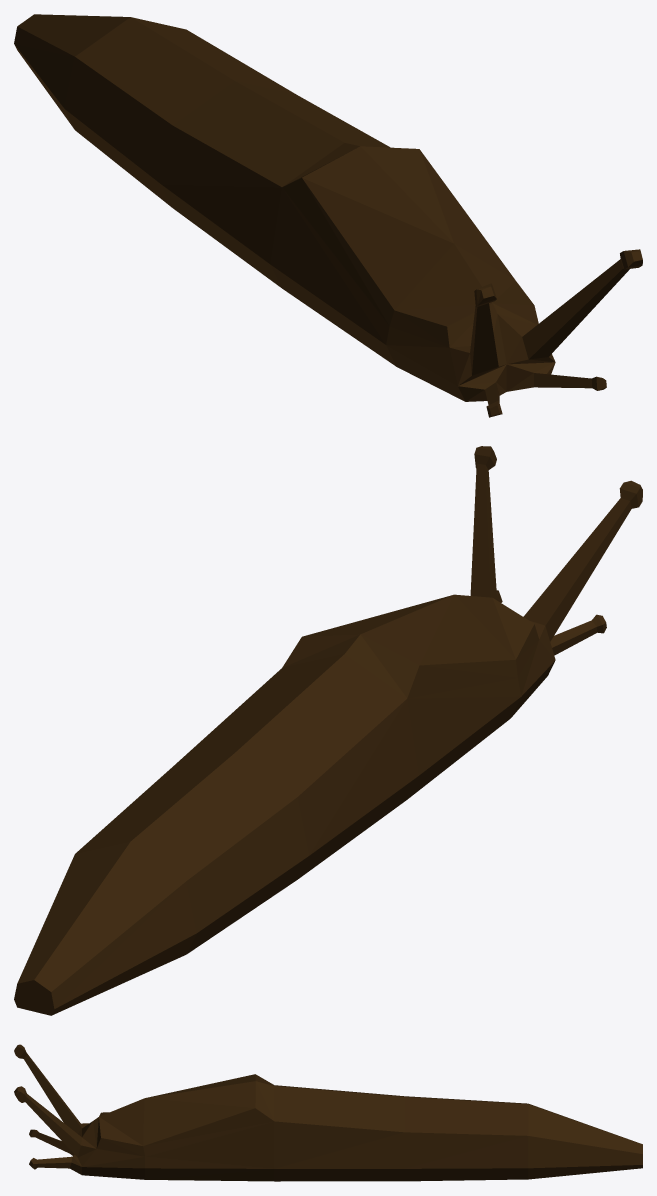
File: 4V7YbLSe8h-.glb
3 views of the same model, one above another, from view 1: azimuth 30°, elevation 25°; view 2: azimuth 150°, elevation 25°; view 3: azimuth 270°, elevation 25° (orthographic). The views are drawn at different scales.
Visible parts, largest first — view 1: Slug; view 2: Slug; view 3: Slug.
Boxes of the visible parts, <box> form: Slug: <box>14,14,642,417</box>; Slug: <box>14,446,642,1015</box>; Slug: <box>14,1044,642,1181</box>.
Size of the model in its own units: 1.06 by 1 by 5.92.
